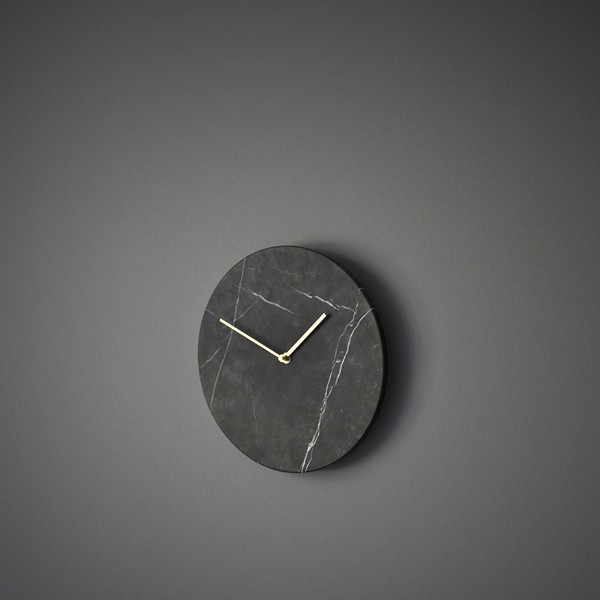clock: (198, 246, 385, 474)
